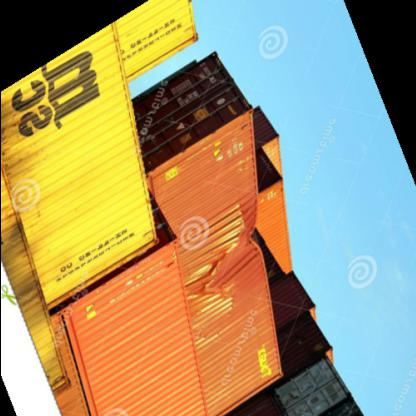Damage: (201, 224, 269, 306)
